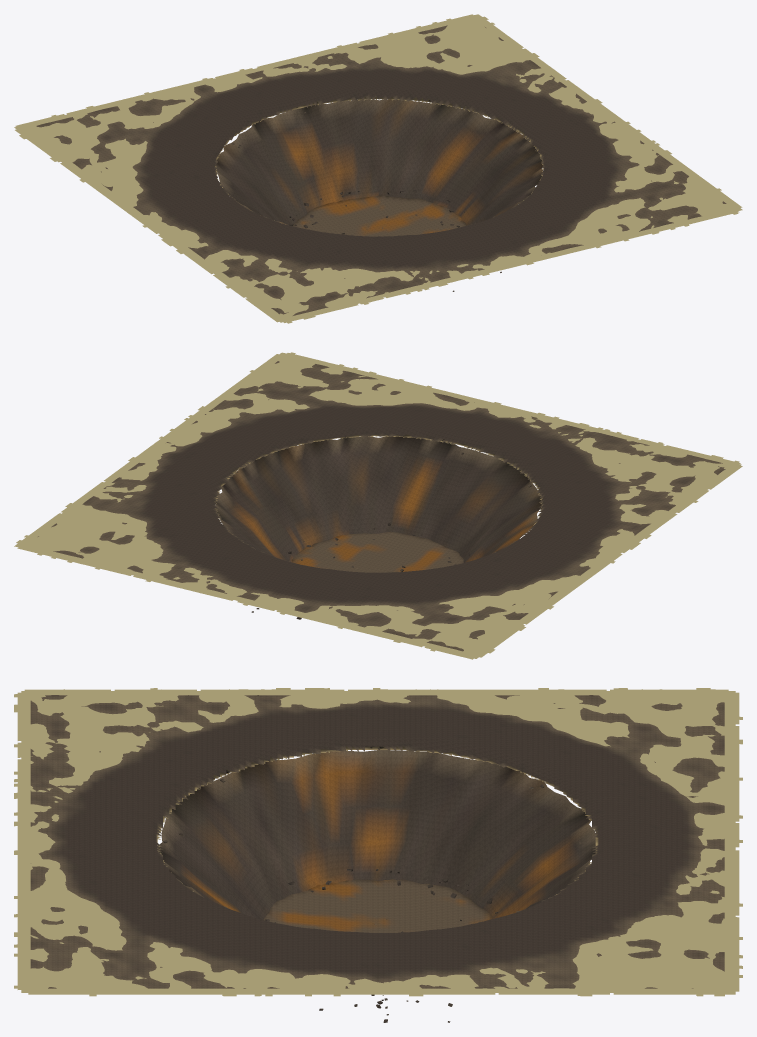
3 views of the same model, one above another, from view 1: azimuth 30°, elevation 25°; view 2: azimuth 150°, elevation 25°; view 3: azimuth 270°, elevation 25° (orthographic). The views are drawn at different scales.
Parts seen in each view (by area): view 1: crater_rim, sediment, crater_walls, crater_floor; view 2: crater_rim, sediment, crater_walls, crater_floor; view 3: crater_rim, sediment, crater_walls, crater_floor.
Boxes of the visible parts, <box> form: crater_rim: <box>36,25,726,315</box>; sediment: <box>14,14,742,323</box>; crater_walls: <box>215,99,542,225</box>; crater_floor: <box>293,195,465,236</box>; crater_rim: <box>38,361,725,651</box>; sediment: <box>14,352,742,659</box>; crater_walls: <box>215,436,541,572</box>; crater_floor: <box>291,531,463,572</box>; crater_rim: <box>30,695,724,988</box>; sediment: <box>14,688,742,996</box>; crater_walls: <box>158,750,595,928</box>; crater_floor: <box>263,879,492,932</box>.
Bounding box in the file's own units: 546 × 86.77 × 546.
2 materials, 1 textured.
